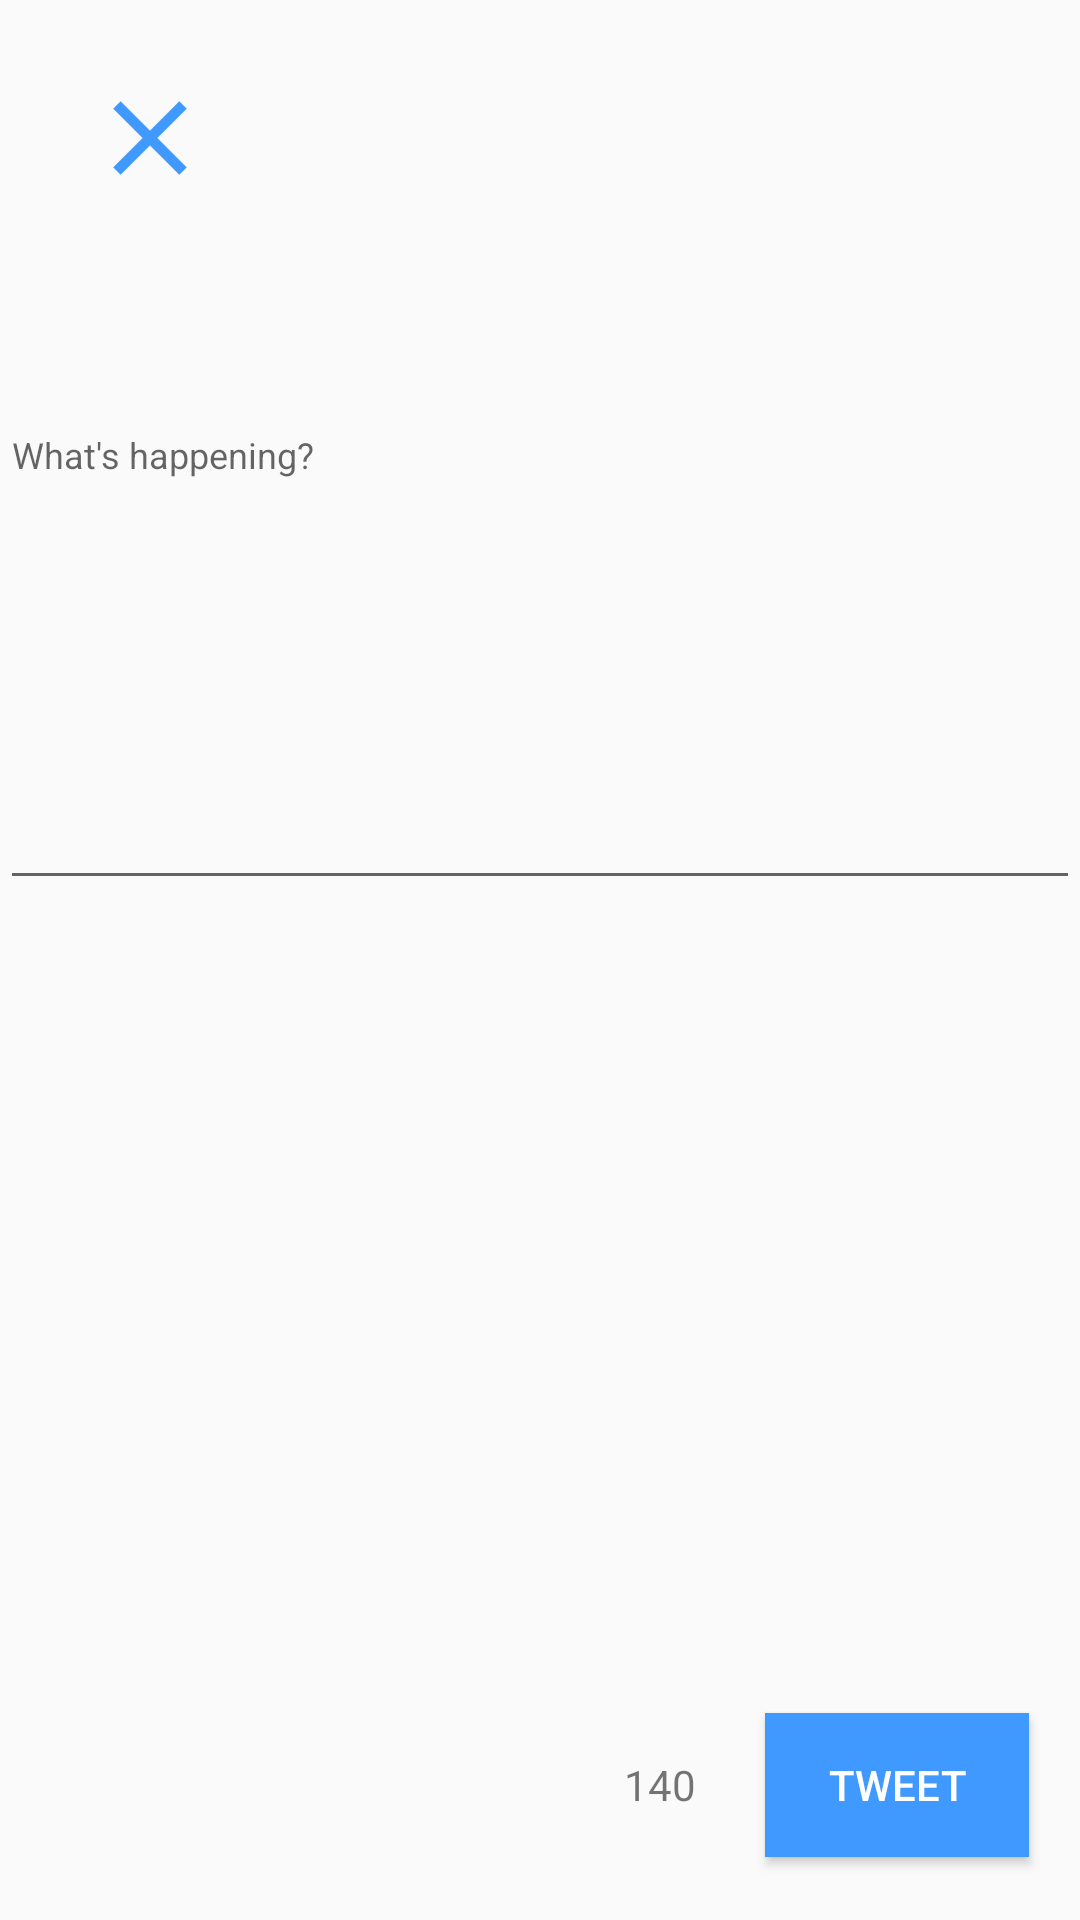

Where to tap for icons on this 1080x1920 app screen, as [x,y]:
clear: [150,138]
